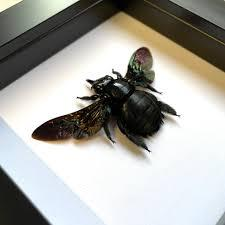Xylocopa: (31, 42, 179, 157)
